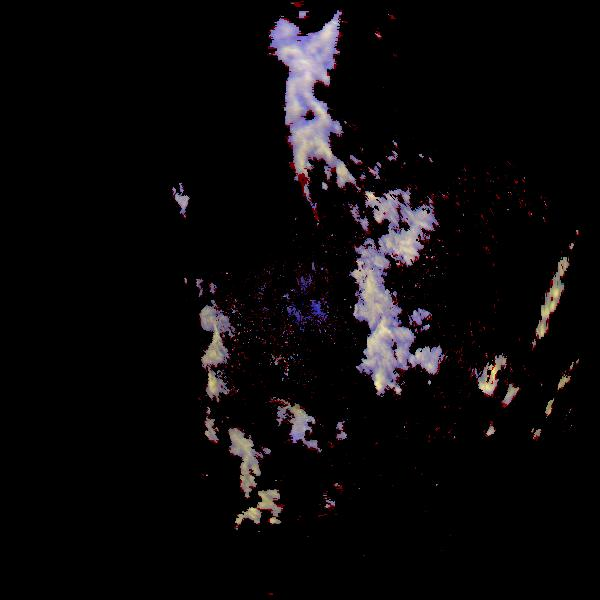roost: (271, 404, 310, 443), (271, 413, 307, 449), (305, 487, 338, 520)
